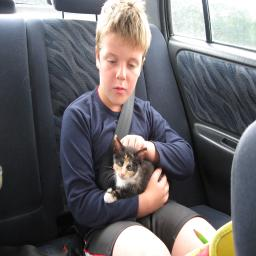catnose: (120, 172, 126, 180)
